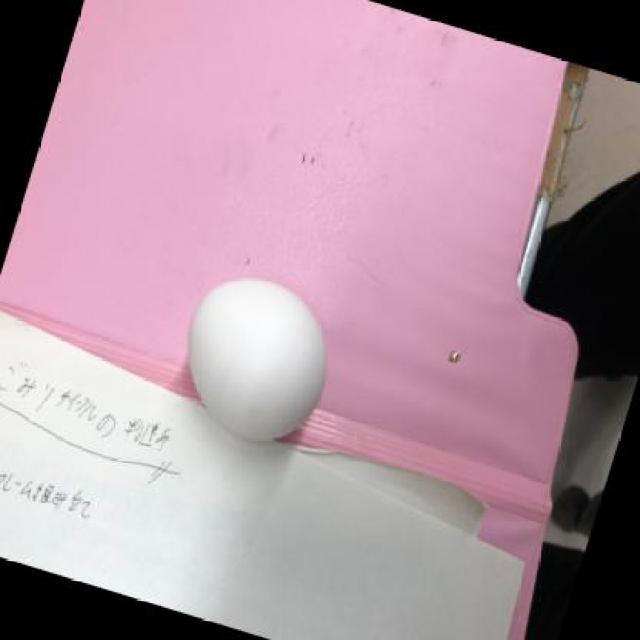egg: (184, 274, 331, 448)
